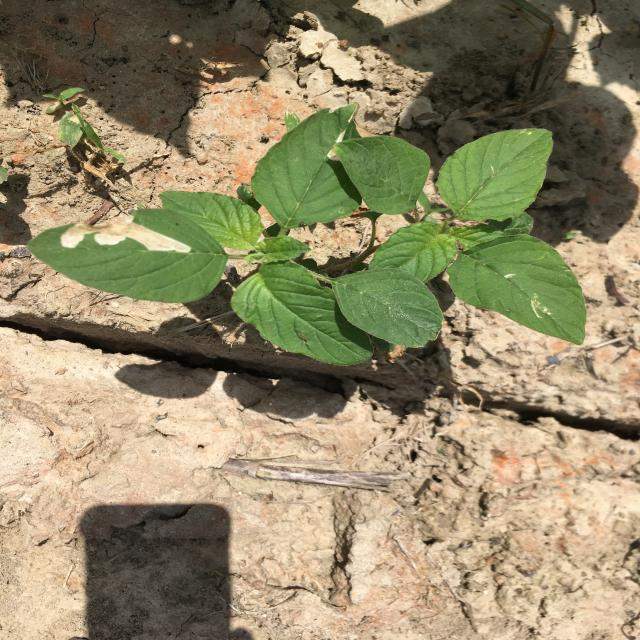PalmerAmaranth: (26, 102, 588, 366)
